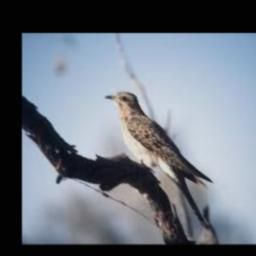Cuckoo: (106, 92, 213, 229)
